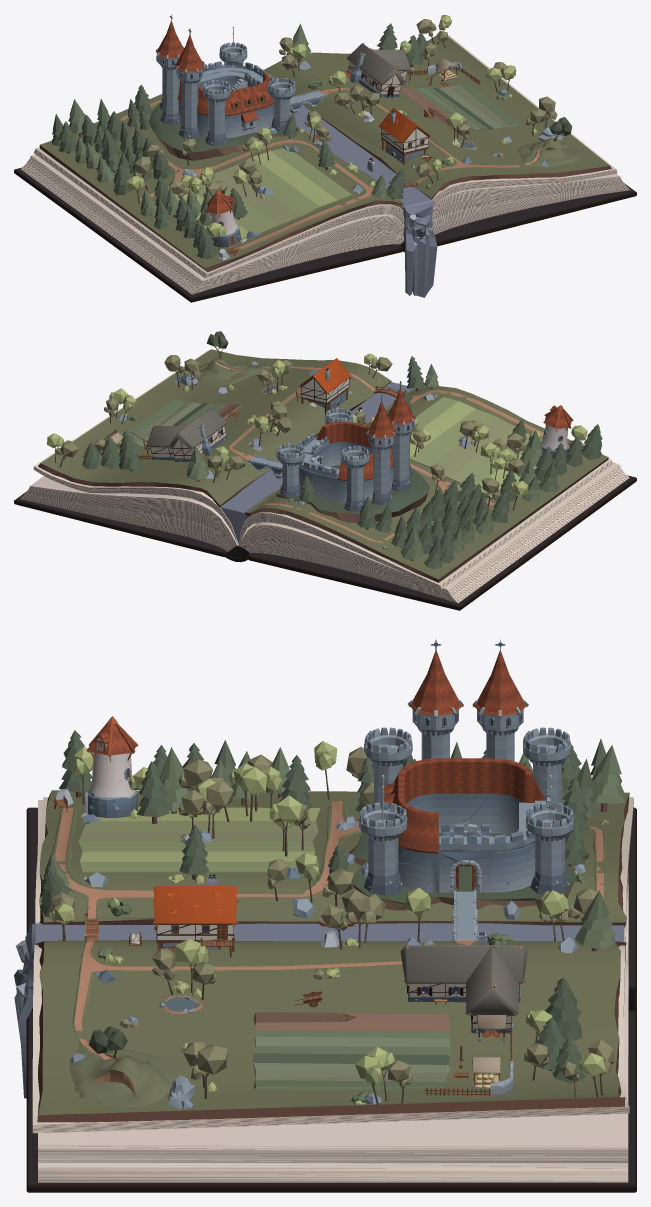
The model's file is world.glb.
3 views of the same model, one above another, from view 1: azimuth 30°, elevation 25°; view 2: azimuth 150°, elevation 25°; view 3: azimuth 270°, elevation 25° (orthographic). The views are drawn at different scales.
Parts seen in each view (by area): view 1: Scene_Texture-base_0.001, Waterfall_Texture-base-gloss-jpg_0; view 2: Scene_Texture-base_0.001, Waterfall_Texture-base-gloss-jpg_0; view 3: Scene_Texture-base_0.001, Waterfall_Texture-base-gloss-jpg_0.
Boxes of the visible parts, x1,y1,x2,y2 form: Scene_Texture-base_0.001: (14,14,636,302); Waterfall_Texture-base-gloss-jpg_0: (290,105,437,297); Scene_Texture-base_0.001: (14,331,636,610); Waterfall_Texture-base-gloss-jpg_0: (220,382,415,544); Scene_Texture-base_0.001: (14,639,636,1192); Waterfall_Texture-base-gloss-jpg_0: (14,923,624,1098).
Bounding box in the file's own units: 103 × 46.4 × 72.3.
2 materials, 2 textured.
